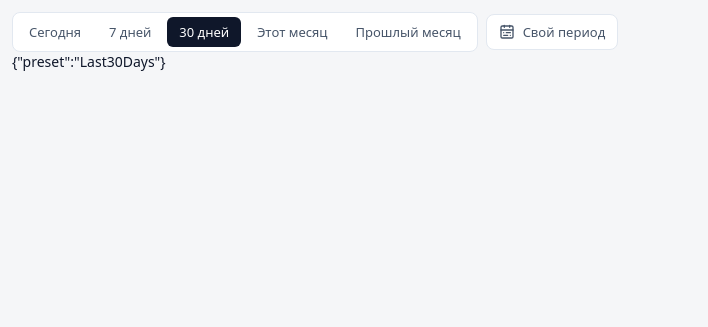
Test: Выбор периода › применяет корректный произвольный диапазон
This screenshot has width=708, height=327.
Click the button "Свой период".
click(552, 32)  # box [486,14,618,50]
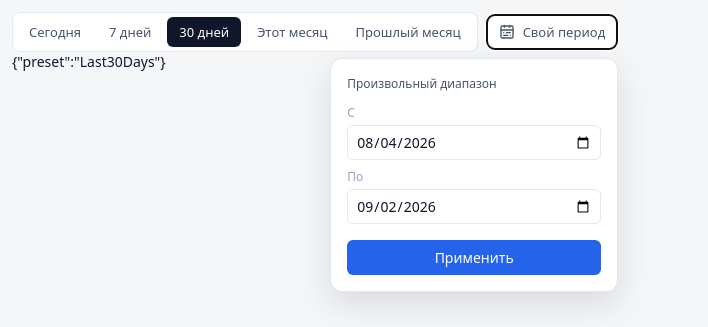
Type "2026-01-01" into the date field labelled "С".
click(474, 142); type("2026-01-01")  # box [347,125,601,160]
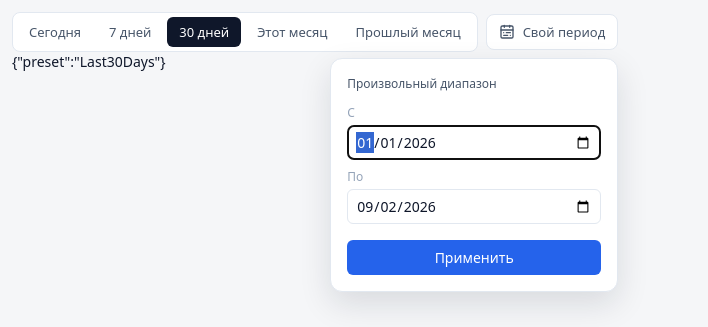
Type "2026-01-31" into the date field labelled "По".
click(474, 206); type("2026-01-31")  # box [347,189,601,224]
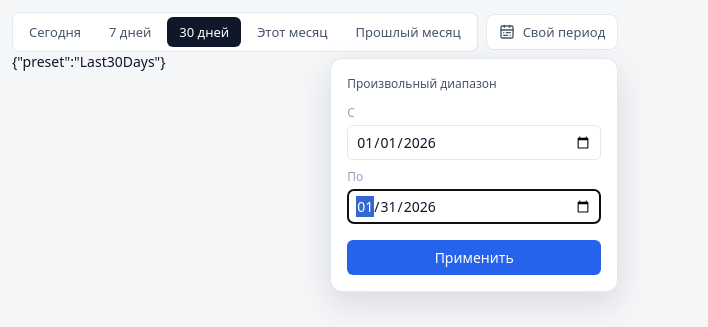
Click the button "Применить".
click(474, 258)  # box [347,240,601,275]
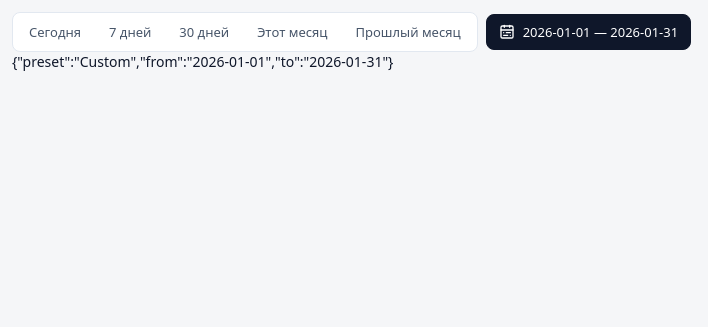
Expected: the text with test id "period" shows "\"preset\":\"Custom\"", [12,52,393,71]
Expected: the text with test id "period" shows "\"from\":\"2026-01-01\"", [12,52,393,71]
Expected: the text with test id "period" shows "\"to\":\"2026-01-31\"", [12,52,393,71]
